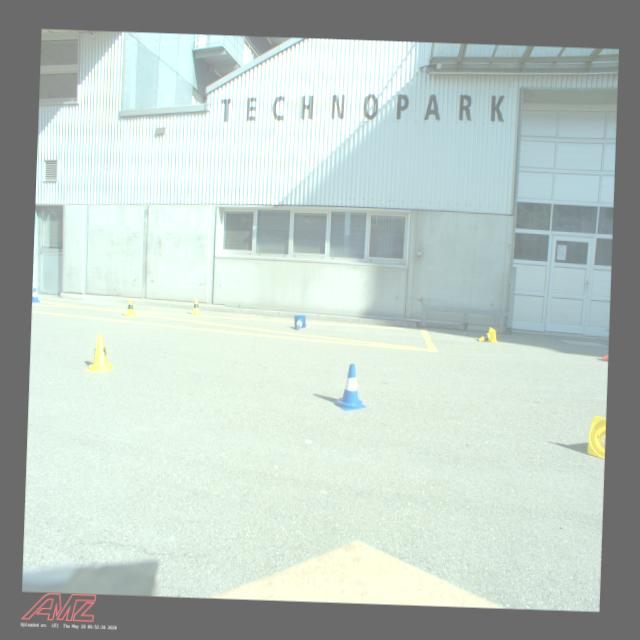blue_cone: (332, 362, 367, 412), (293, 314, 306, 330), (32, 288, 40, 302)
yellow_cone: (84, 333, 116, 372), (478, 326, 497, 343), (124, 298, 138, 317), (190, 298, 202, 314)
